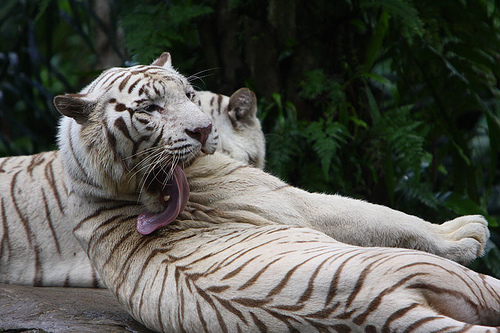Tigre: (56, 55, 222, 250)
